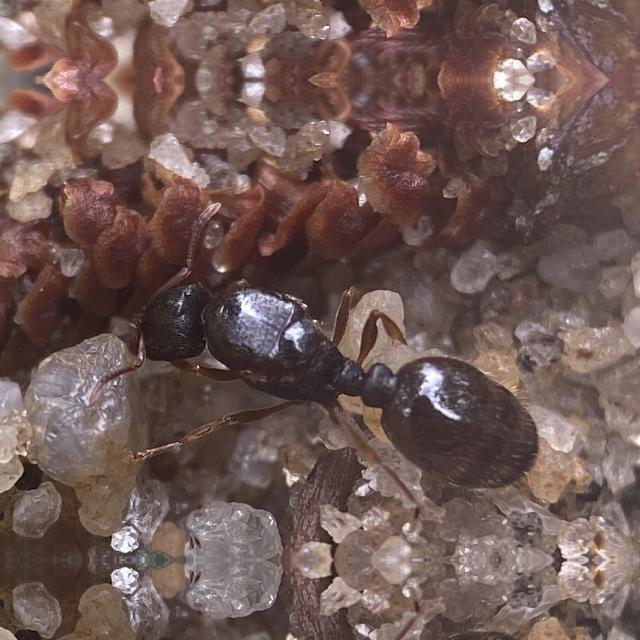Tetramorium: (97, 223, 581, 523)
